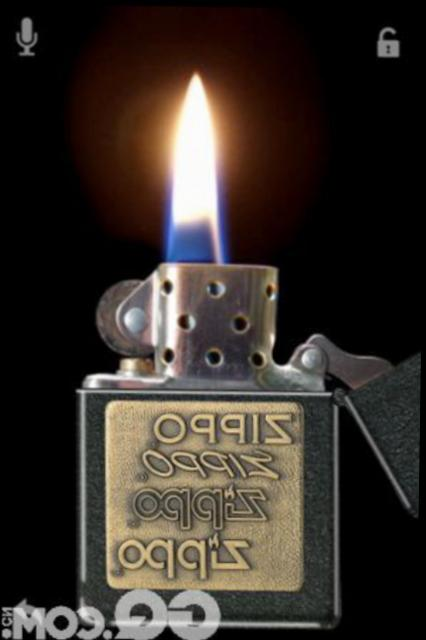fire: (171, 60, 222, 231)
